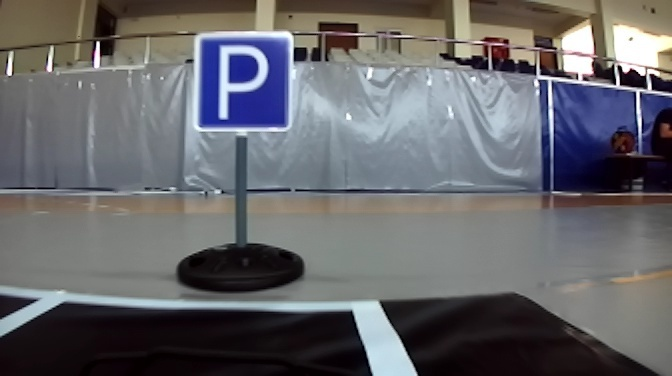park: (192, 30, 293, 134)
